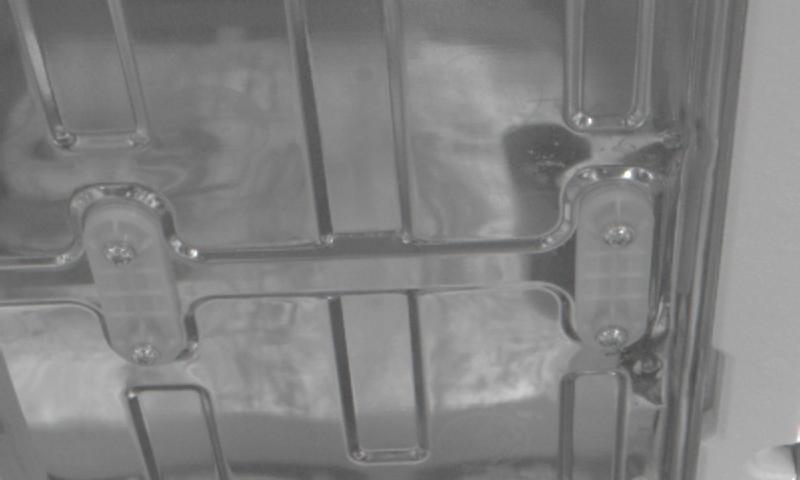vida-ok: (92, 235, 142, 281), (592, 321, 638, 362), (117, 338, 165, 377), (598, 217, 637, 256)
